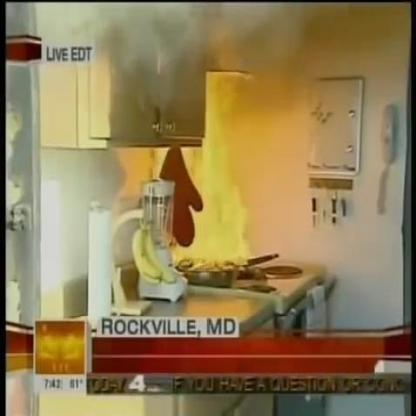fire: (148, 70, 265, 270)
